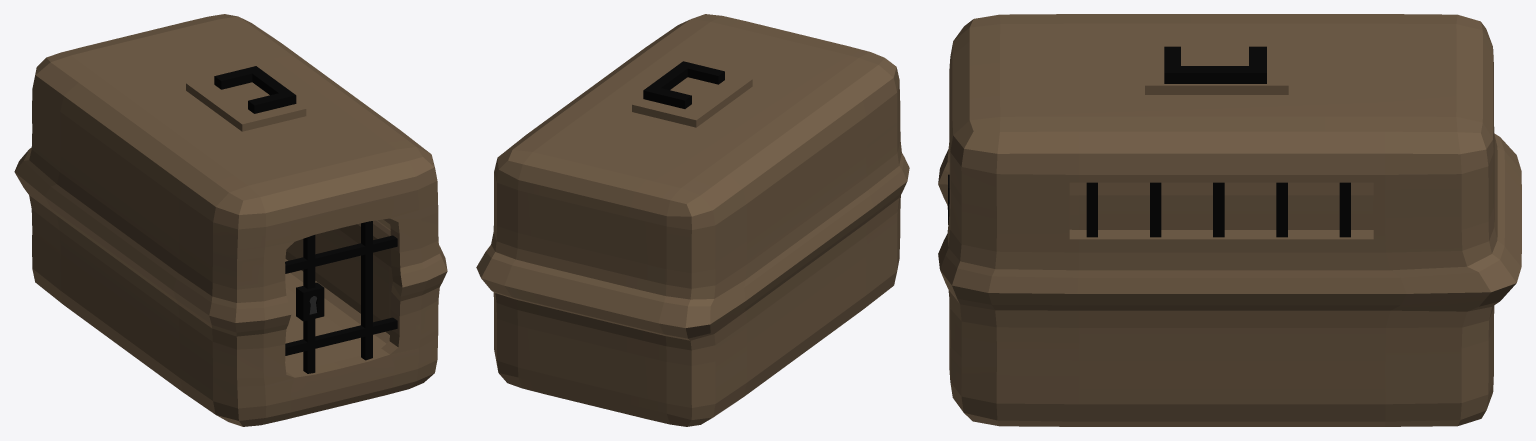
File: Dogcage_v2.fbx
3 renders of one model, left to right at view 1: azimuth 30°, elevation 25°; view 2: azimuth 150°, elevation 25°; view 3: azimuth 270°, elevation 25°, orthographic. The views are drawn at different scales.
Visible parts, largest first — view 1: dogcage; view 2: dogcage; view 3: dogcage.
Part boxes in pixels (bbox=[...]): dogcage: bbox=[14, 14, 447, 426]; dogcage: bbox=[476, 14, 909, 426]; dogcage: bbox=[938, 14, 1521, 426].
Size of the model in its own units: 375 by 376 by 618.
